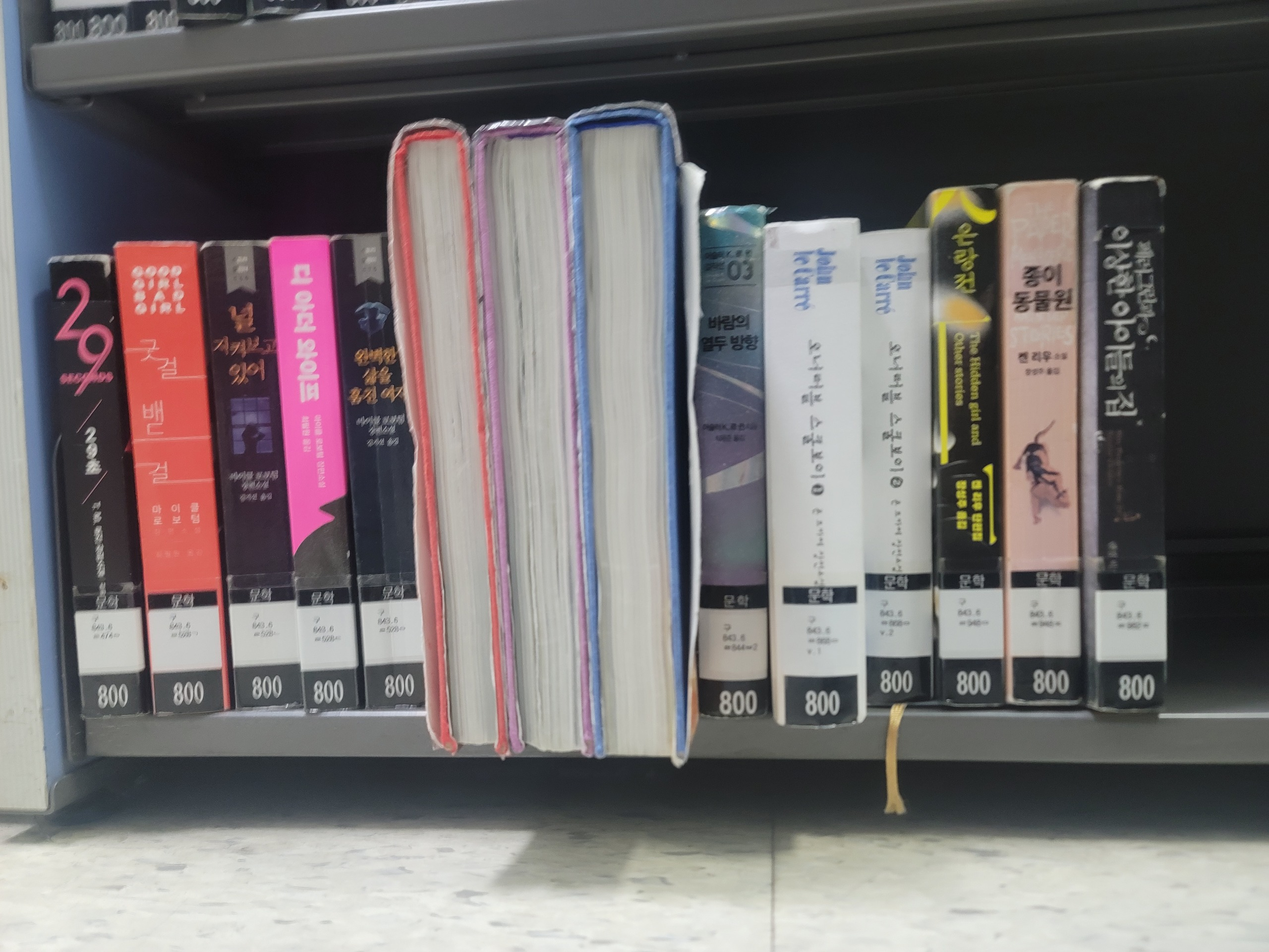book-spine: (113, 244, 230, 715), (761, 216, 864, 728), (201, 245, 303, 713), (45, 257, 146, 720), (331, 235, 429, 711), (267, 236, 361, 715), (1000, 181, 1081, 706), (1091, 178, 1167, 711), (929, 186, 1006, 706), (697, 207, 770, 719), (860, 228, 935, 709)
